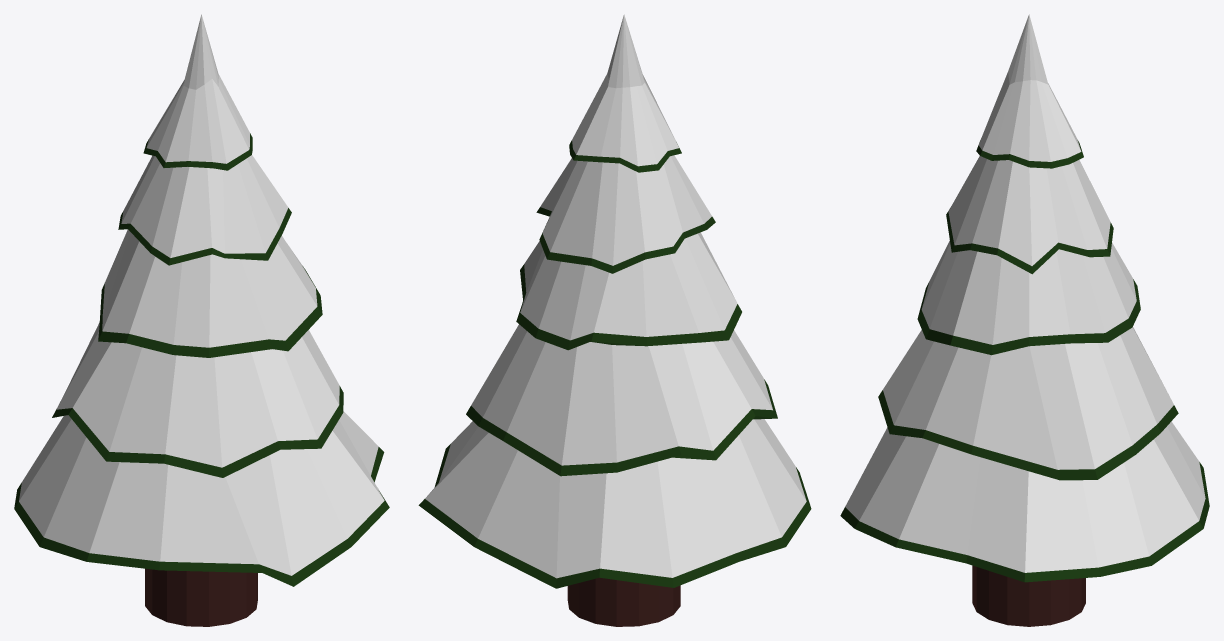
File: TanneAsymb.fbx
3 renders of one model, left to right at view 1: azimuth 30°, elevation 25°; view 2: azimuth 150°, elevation 25°; view 3: azimuth 270°, elevation 25°, orthographic.
Visible parts, largest first — view 1: TanneAsym.001; view 2: TanneAsym.001; view 3: TanneAsym.001.
Part boxes in pixels (x1,y1,x2,y2): TanneAsym.001: (14, 14, 389, 626); TanneAsym.001: (418, 14, 811, 626); TanneAsym.001: (840, 14, 1209, 626).
Bounding box in the file's own units: 1676 × 2755 × 1567.
